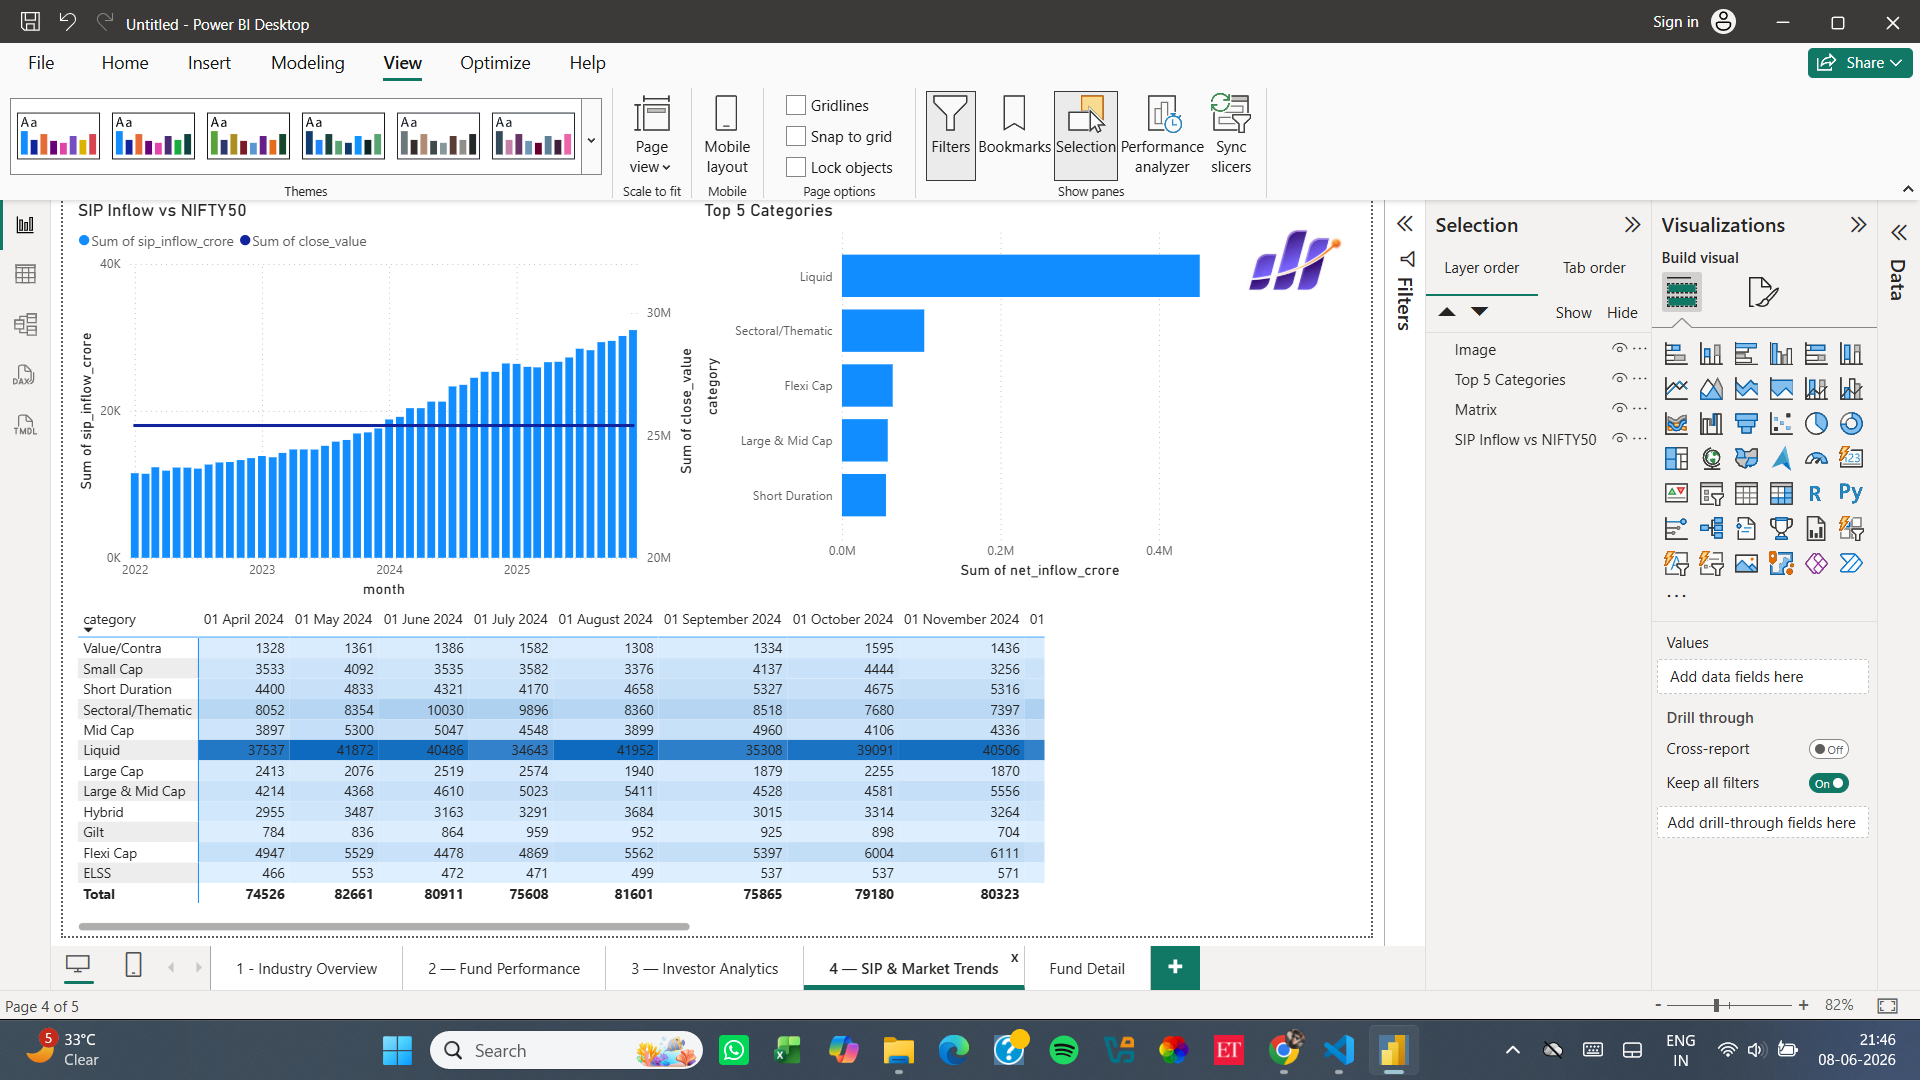

The dashboard page shown, as its layout file describes it:
{"tool":"powerbi","page":{"name":"4 — SIP & Market Trends","canvas":[1280,720],"ordinal":3},"visuals":[{"type":"lineClusteredColumnComboChart","title":"SIP Inflow vs NIFTY50","fields":{"Y":["Sum(04_monthly_sip_inflows_clean.sip_inflow_crore)"],"Y2":["Sum(10_benchmark_indices_clean.close_value)"],"Category":["04_monthly_sip_inflows_clean.month"]},"box":[9.8,0,612.6,393.8],"z":0},{"type":"pivotTable","fields":{"Rows":["05_category_inflows_clean.category"],"Columns":["05_category_inflows_clean.month"],"Values":["Sum(05_category_inflows_clean.net_inflow_crore)"]},"box":[9.6,393.8,955.1,326.6],"z":1},{"type":"clusteredBarChart","title":"Top 5 Categories","fields":{"Category":["05_category_inflows_clean.category"],"Y":["Sum(05_category_inflows_clean.net_inflow_crore)"]},"box":[622.4,0,546.6,375.4],"z":2},{"type":"image","box":[1138.5,0,133.3,118.6],"z":3}]}

Visuals, with their boxes on the page's 1280x720 design canvas (x1, y1, x2, y2). These are canvas units, not pixel positions in the 1920x1080 screenshot, which may show the page scaled, cropped or inside an application window:
"SIP Inflow vs NIFTY50" lineClusteredColumnComboChart: Rect(10, 0, 622, 394)
pivotTable - 05_category_inflows_clean.category x 05_category_inflows_clean.month: Rect(10, 394, 965, 720)
"Top 5 Categories" clusteredBarChart: Rect(622, 0, 1169, 375)
image: Rect(1138, 0, 1272, 119)
